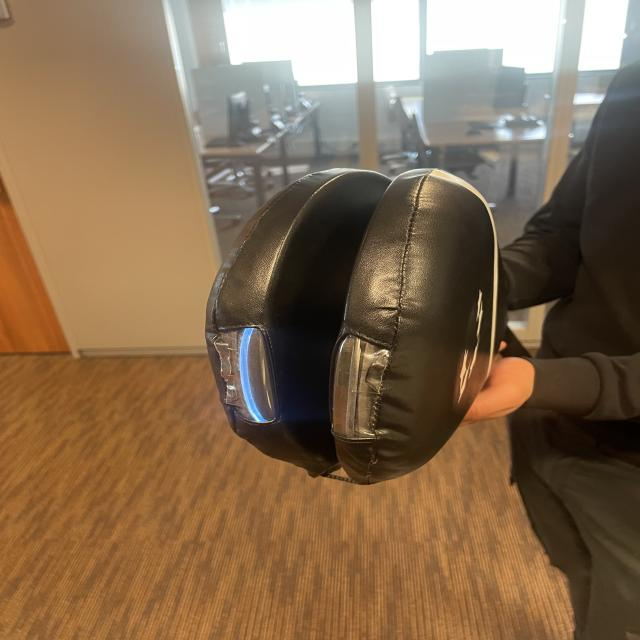paddle: (215, 170, 497, 480)
trigger: (231, 319, 276, 425)
